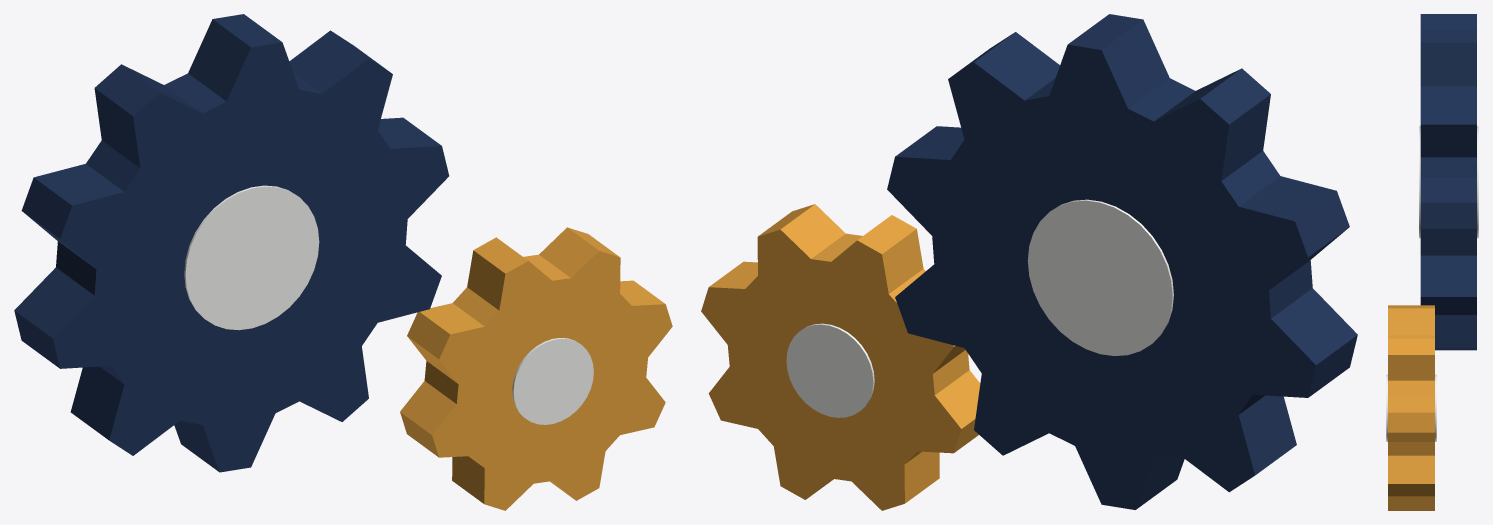
The model's file is ph_settings.glb.
The picture shows the model from 3 angles, left to right: view 1: azimuth 30°, elevation 25°; view 2: azimuth 150°, elevation 25°; view 3: azimuth 270°, elevation 25°; orthographic projection. The views are drawn at different scales.
Parts seen in each view (by area): view 1: ph_settings; view 2: ph_settings; view 3: ph_settings.
Part boxes in pixels (<box>): ph_settings: <box>14,14,672,510</box>; ph_settings: <box>701,14,1357,510</box>; ph_settings: <box>1386,14,1478,510</box>.
Size of the model in its own units: 2.68 by 2.19 by 0.495.
